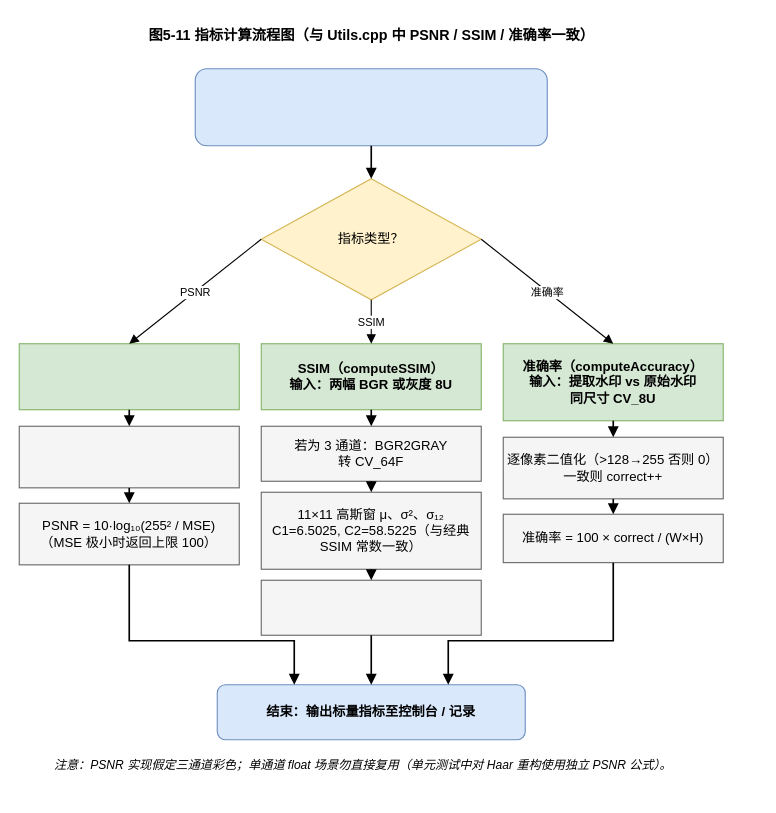
Some shapes in this 776 by 813 pixel diagram are drawn without their labels. The shapes that lost their labels are listed below. From the top down, each one's centre as x and y in pixels, then its label:
At pixel 370 107: "开始：按调用场景选择指标 （嵌入：PSNR+SSIM；提取：准确率）".
At pixel 128 376: "PSNR（computePSNR） 输入：两幅同尺寸 BGR 8U".
At pixel 128 456: "absdiff → 平方 → mean MSE = (mse_B+mse_G+mse_R)/3".
At pixel 370 607: "SSIM 图逐点相除 → mean → 标量 MSSIM".
